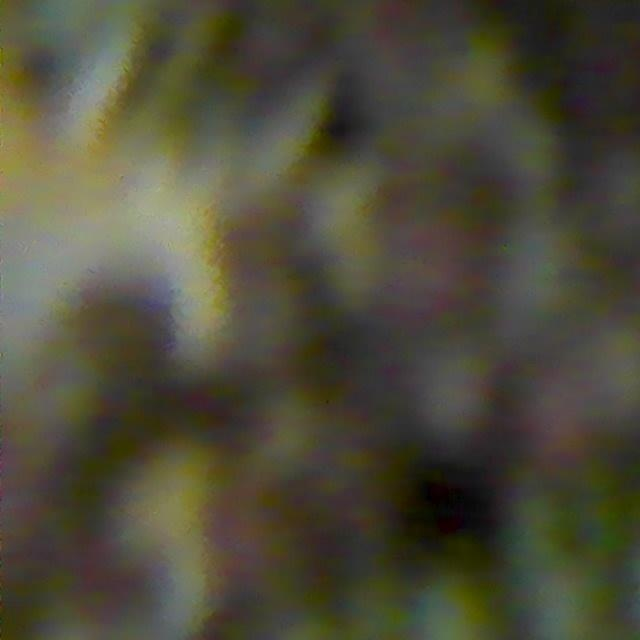SeaGrape: (511, 366, 611, 466), (551, 406, 640, 506), (509, 563, 603, 640)
